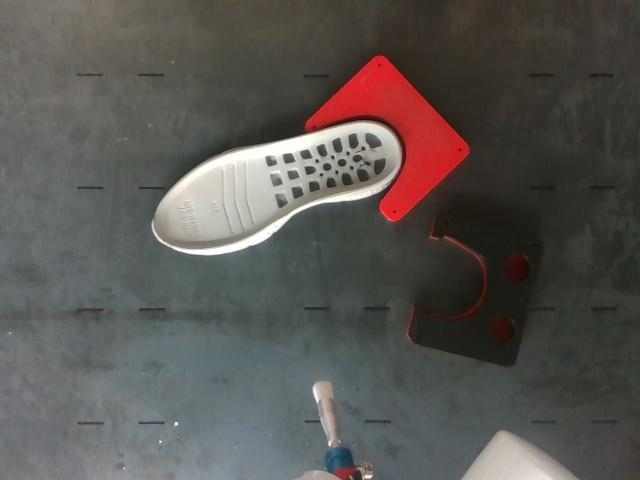shoes: (154, 123, 399, 249)
